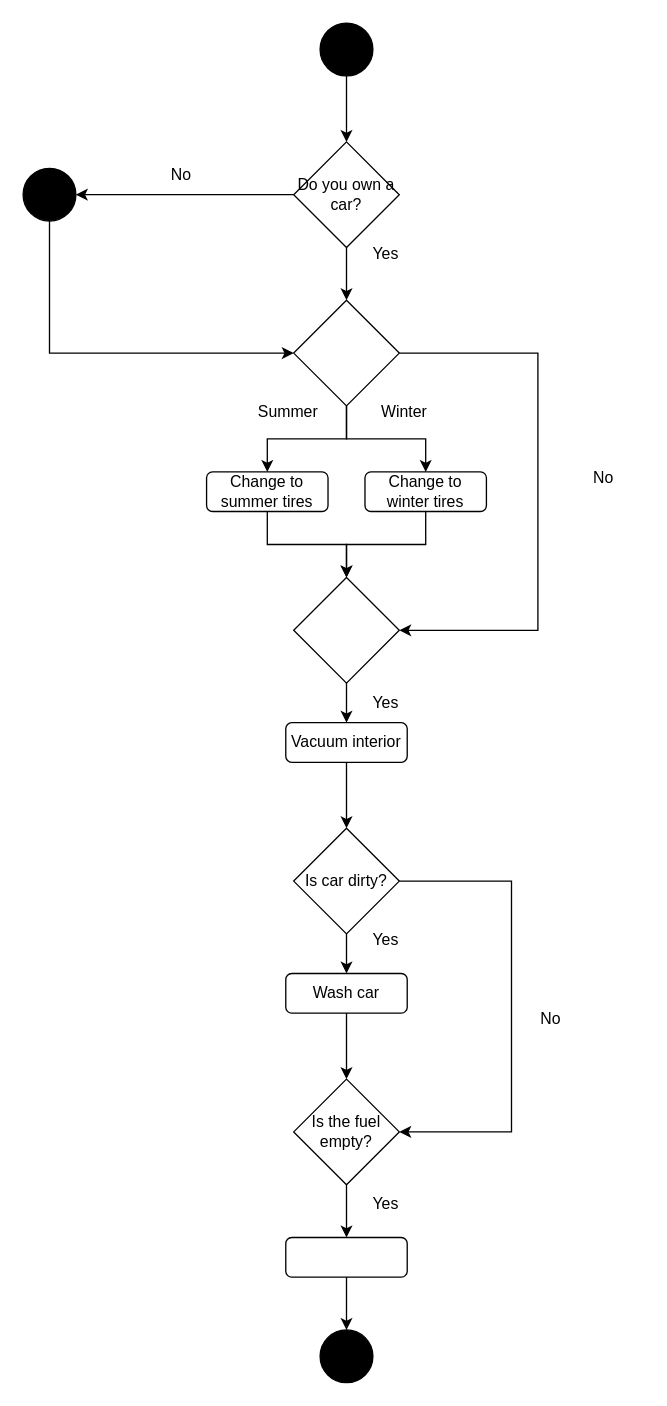
Some shapes in this 667 by 1406 pixel diagram are drawn without their labels. The shapes that lost their labels are listed below. From the top down, each one's centre as x and y in pixels, then its label:
pixel 345 352: Change to winter or summer tires?
pixel 345 629: Is interior dirty?
pixel 345 1256: Fill tank
